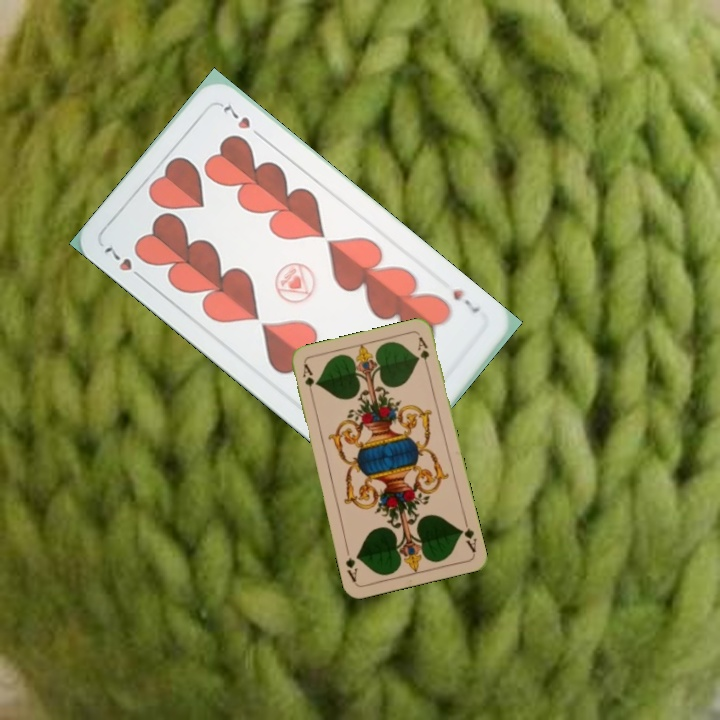GA: (456, 515, 479, 555), (298, 360, 317, 400)
H7: (99, 240, 148, 284), (448, 285, 483, 316)
